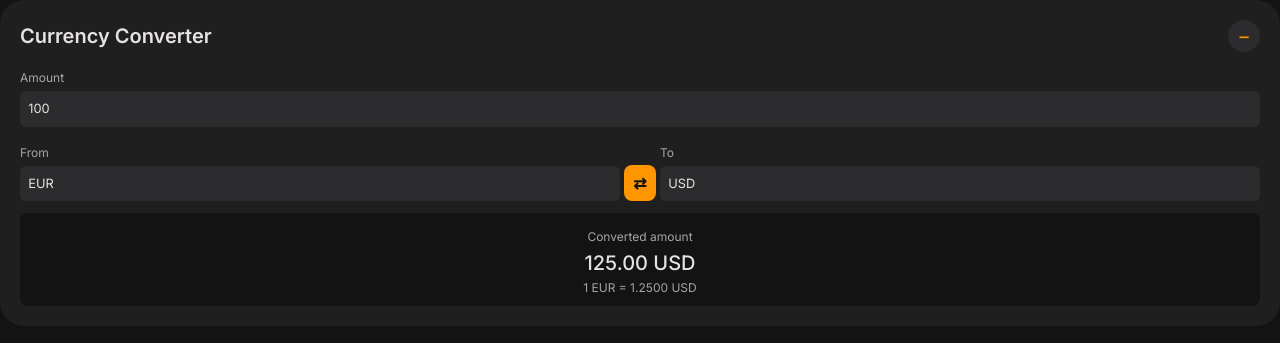
CurrencySection › shows an error for an invalid amount
Replace the text in the number field with test id "currency-amount" with "-10". click: (640, 109)
box: [20,91,1260,127]
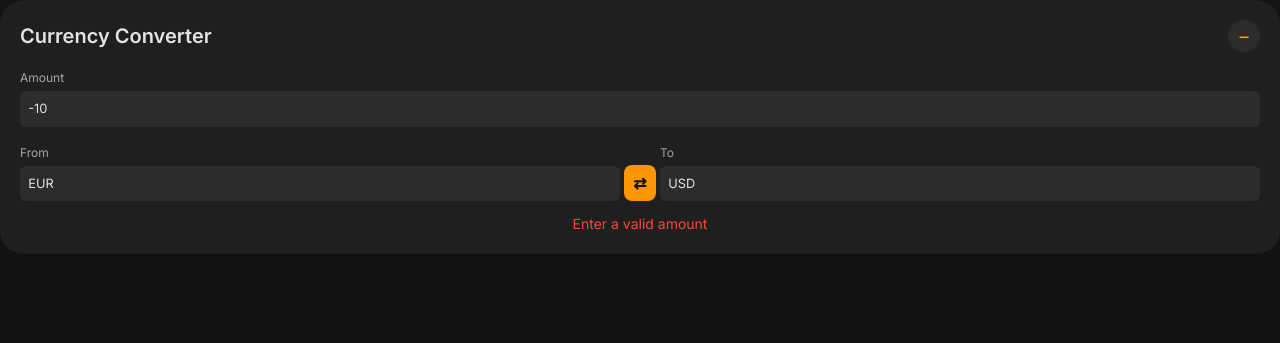
Expected: the message "Enter a valid amount" is shown, [572,215,707,232]
